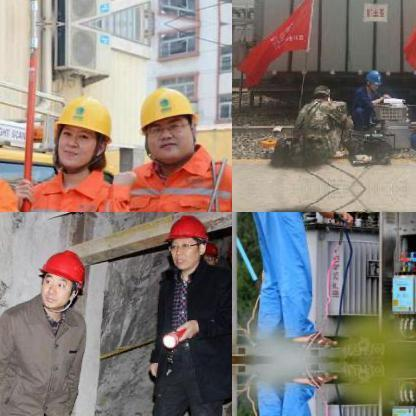Helmet: (130, 75, 204, 169), (46, 87, 118, 175), (35, 246, 88, 308), (161, 212, 212, 267), (198, 238, 219, 268), (362, 65, 384, 89), (226, 235, 231, 269)
